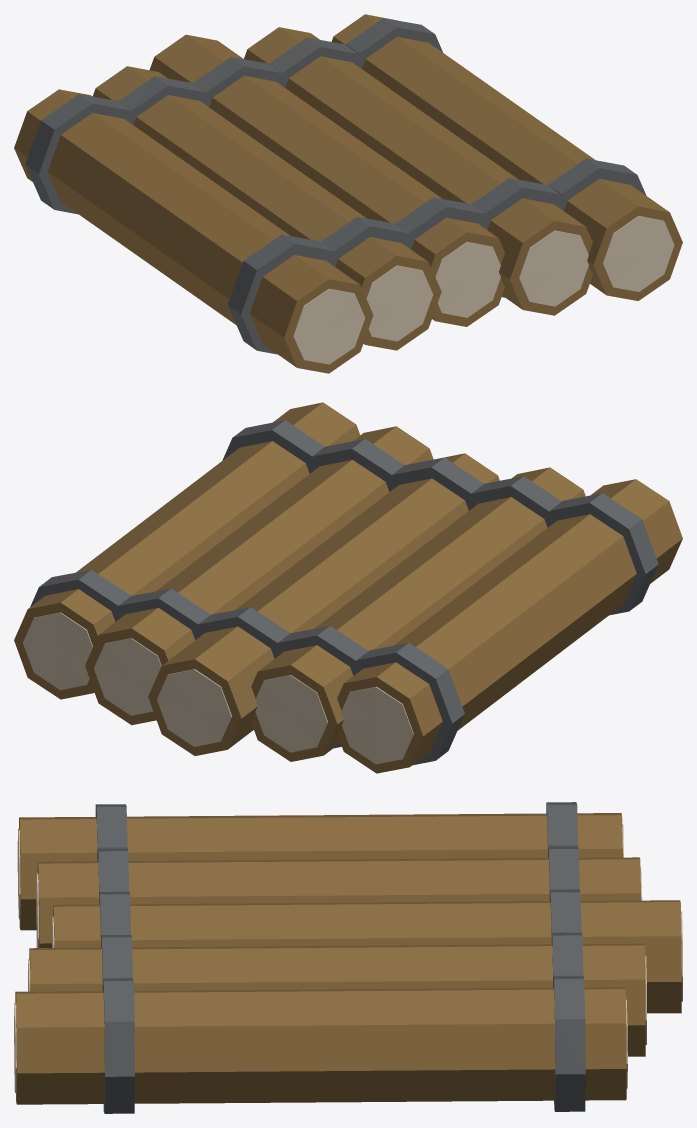
3 renders of one model, top to bottom at view 1: azimuth 30°, elevation 25°; view 2: azimuth 150°, elevation 25°; view 3: azimuth 270°, elevation 25°, orthographic. The views are drawn at different scales.
Parts seen in each view (by area): view 1: Mesh_Mesh_head_geo.001_lambert2SG.001; view 2: Mesh_Mesh_head_geo.001_lambert2SG.001; view 3: Mesh_Mesh_head_geo.001_lambert2SG.001.
Boxes of the visible parts, bbox=[...] form: Mesh_Mesh_head_geo.001_lambert2SG.001: bbox=[14, 14, 682, 373]; Mesh_Mesh_head_geo.001_lambert2SG.001: bbox=[14, 402, 682, 773]; Mesh_Mesh_head_geo.001_lambert2SG.001: bbox=[14, 802, 682, 1113].
Size of the model in its own units: 1.54 by 0.405 by 1.83.
